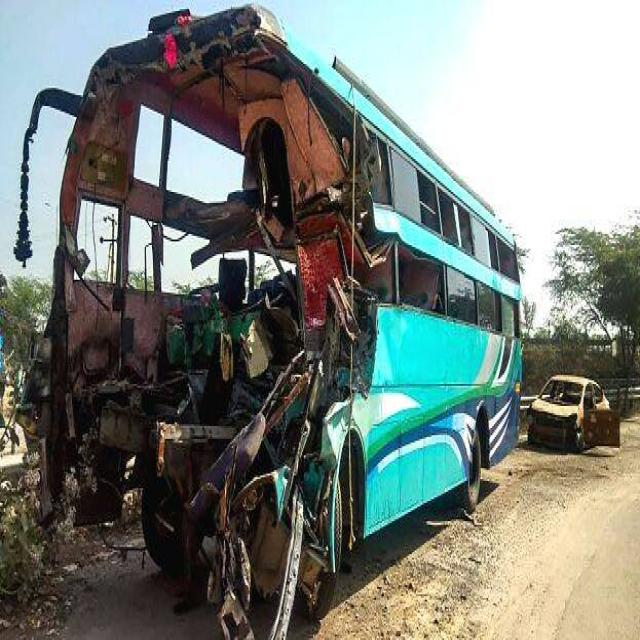accident: (20, 4, 522, 639), (529, 374, 620, 451)
